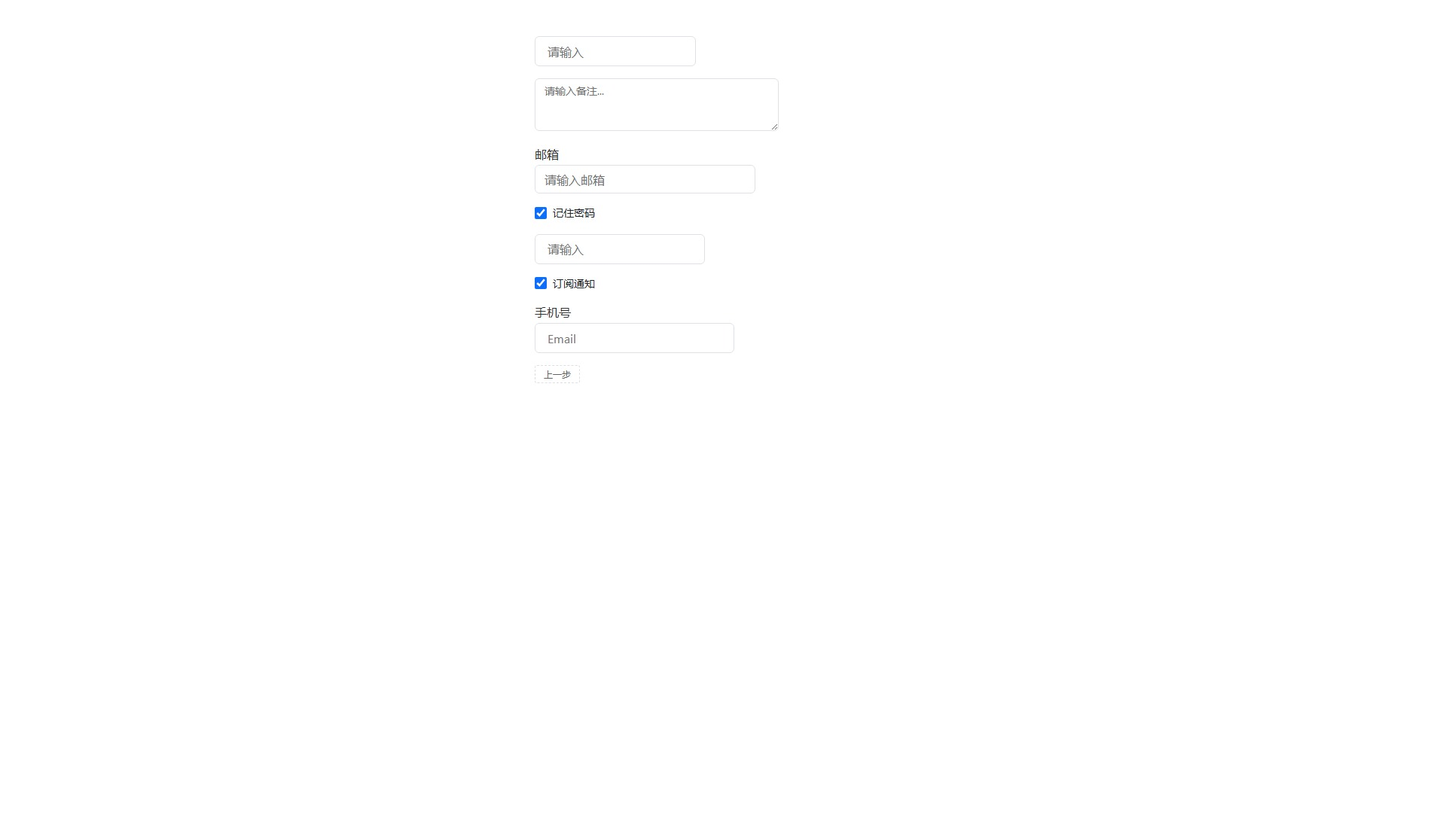button: (535, 365, 580, 383)
checkbox: (535, 207, 547, 219), (535, 277, 547, 289)
icon: (553, 206, 595, 220), (553, 276, 595, 290)
input: (535, 165, 755, 193), (535, 323, 734, 353), (535, 234, 705, 264), (535, 36, 696, 66)
radio: (535, 206, 595, 220), (535, 276, 595, 290)
textarea: (535, 78, 779, 131)
